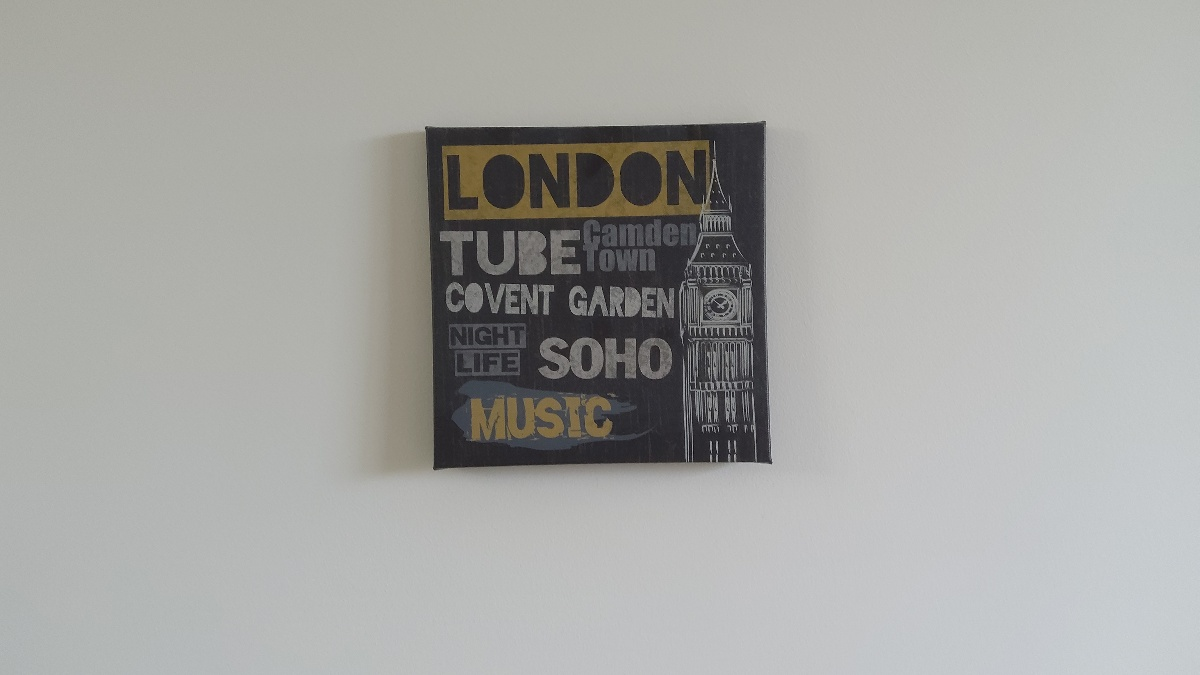poster: (415, 121, 788, 475)
